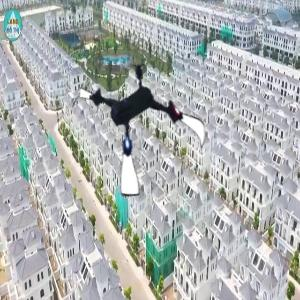drone: (73, 56, 215, 198)
